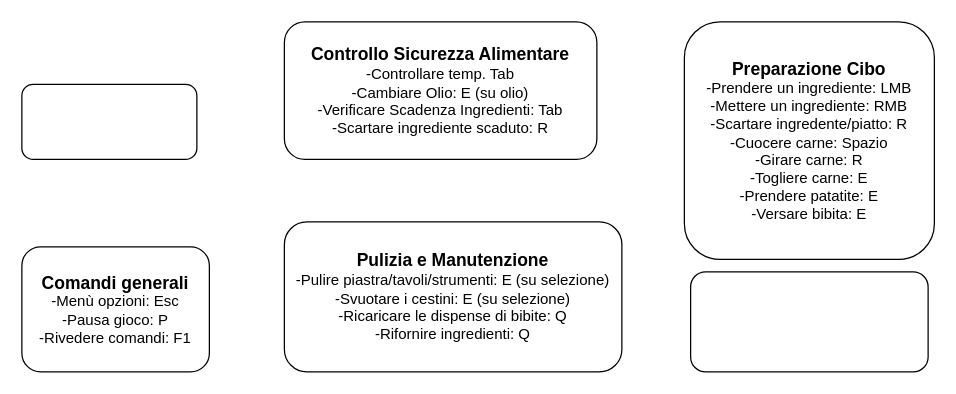
The diagram is 956 pixels wide and 394 high, and some of its shapes have lost their labels. Here are the shapes that lost their labels. From the top down, the centre of each, then its label:
point 109,121: Movimento Tridimensionale: WASD
point 808,321: Gestione Priorità Ordini -Vedere lista ordini: M -Evidenziare ordini urgenti: U
